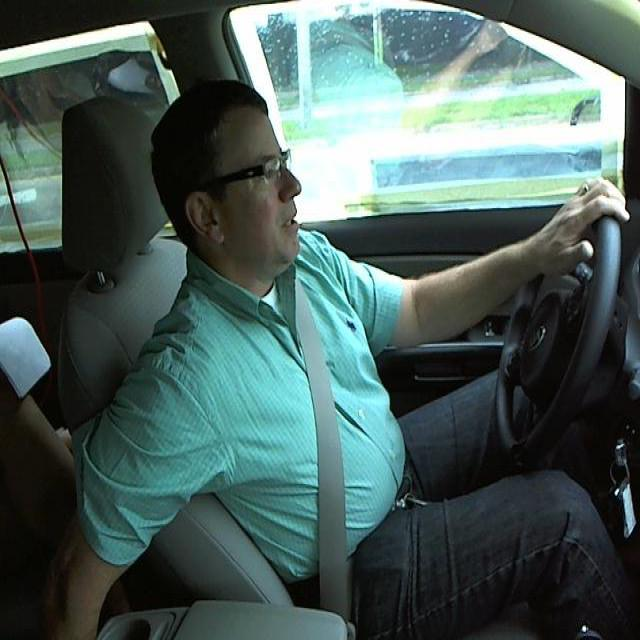seatbelt: (273, 276, 374, 619)
